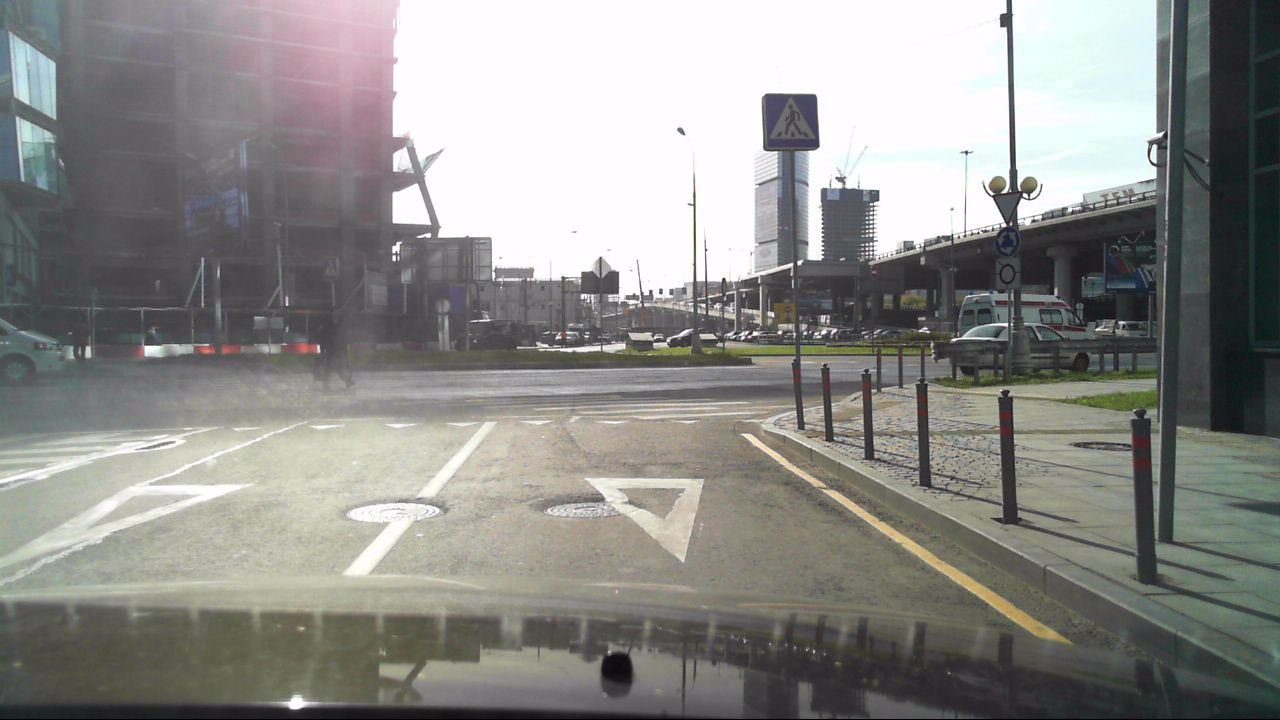Round-About: (996, 224, 1024, 254)
